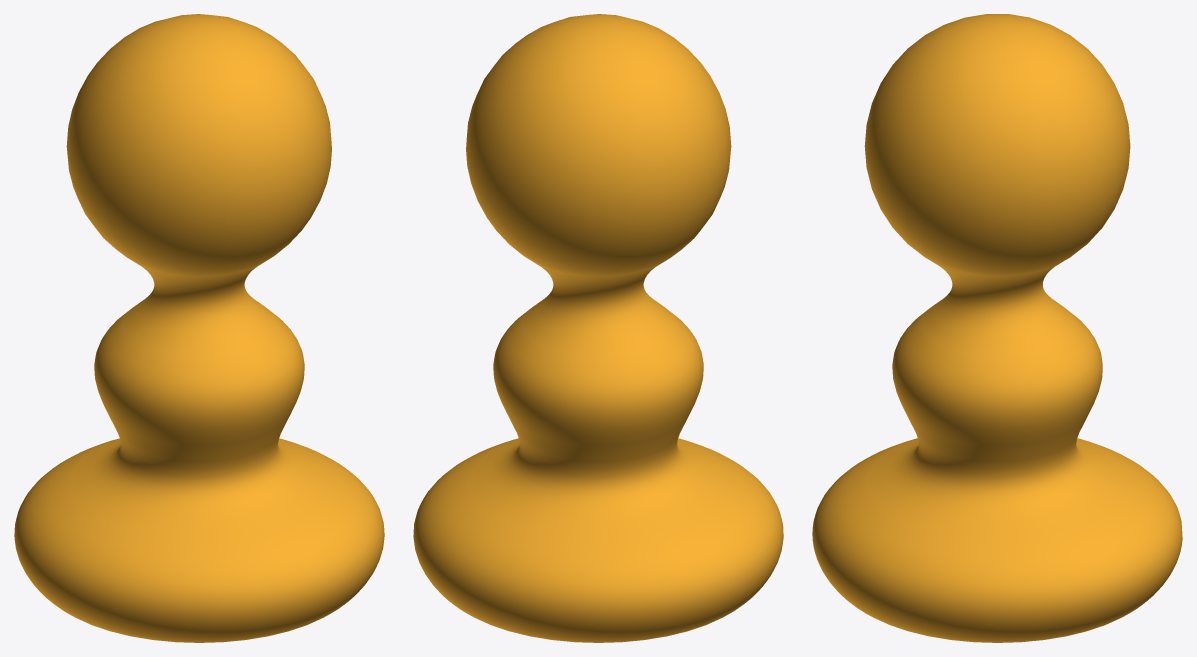
File: Fate Game Piece V2 Hunyadi.glb
3 renders of one model, left to right at view 1: azimuth 30°, elevation 25°; view 2: azimuth 150°, elevation 25°; view 3: azimuth 270°, elevation 25°, orthographic.
Visible parts, largest first — view 1: Solid1; view 2: Solid1; view 3: Solid1.
Part boxes in pixels (bbox=[...]): Solid1: bbox=[14, 14, 384, 642]; Solid1: bbox=[413, 14, 783, 642]; Solid1: bbox=[812, 14, 1182, 642].
Bounding box in the file's own units: 0.0334 × 0.0547 × 0.0334.
